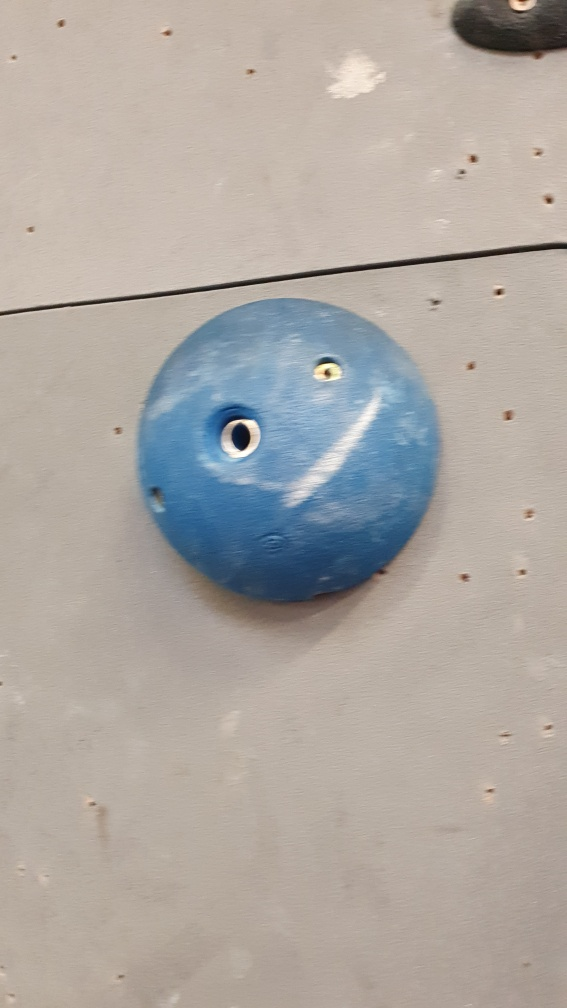Sloper: (135, 295, 443, 610)
